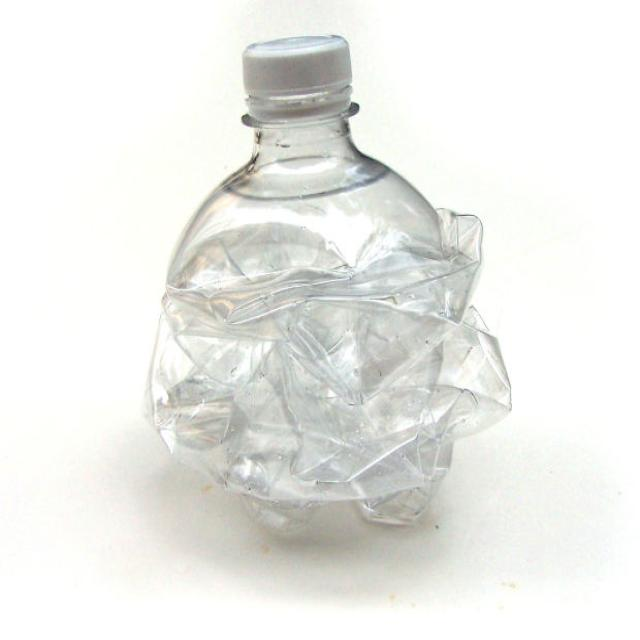plastic: (178, 35, 480, 530)
